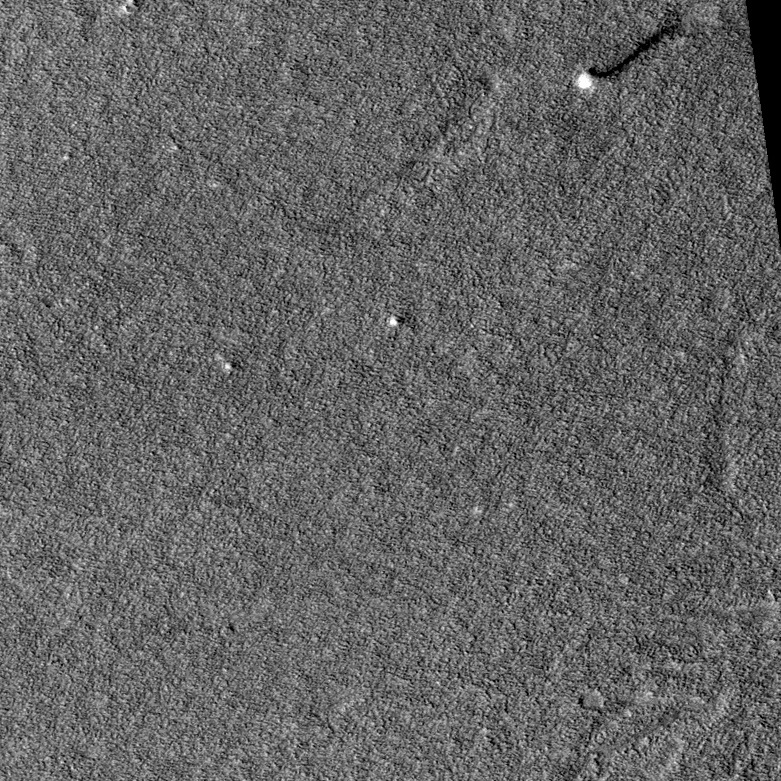dust_devil: (576, 21, 685, 90)
